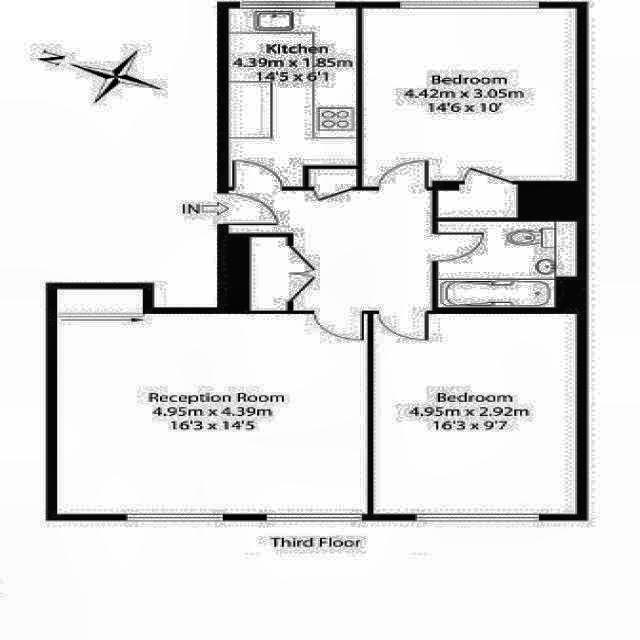room: (57, 288, 368, 515), (374, 314, 577, 515), (362, 7, 578, 187), (229, 8, 357, 187), (438, 222, 577, 307), (250, 237, 288, 310), (438, 190, 518, 218)
